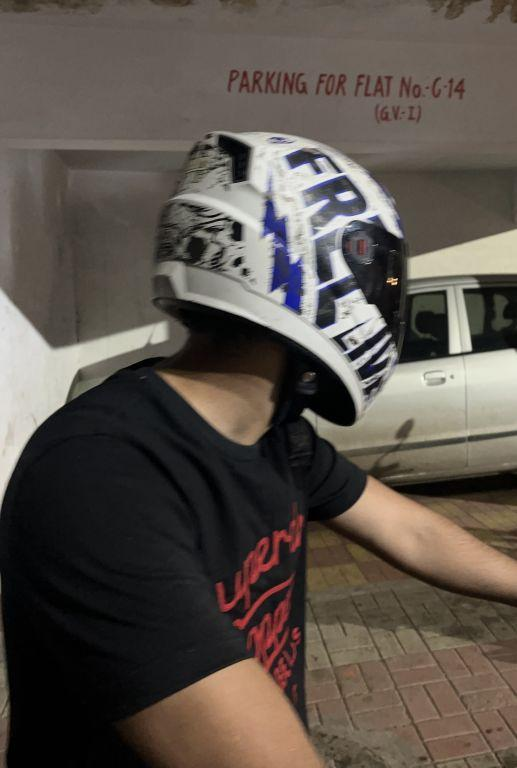helmet: (144, 112, 413, 443)
